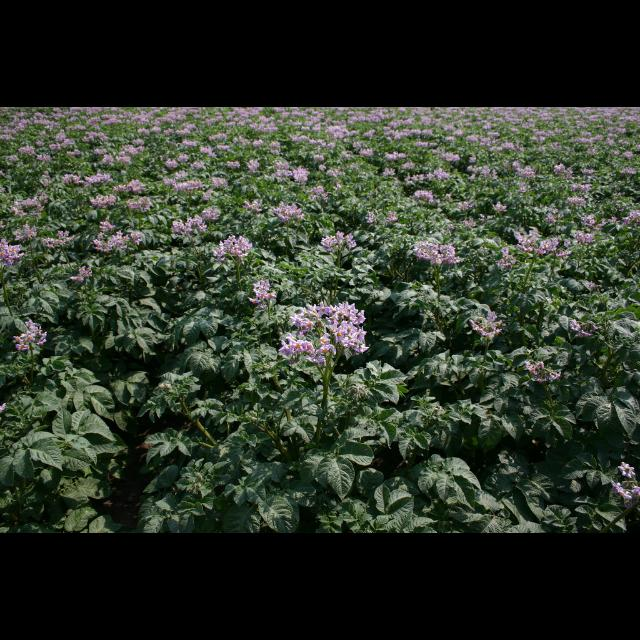Flower: (1, 107, 640, 385), (329, 300, 369, 360), (610, 464, 640, 500)
